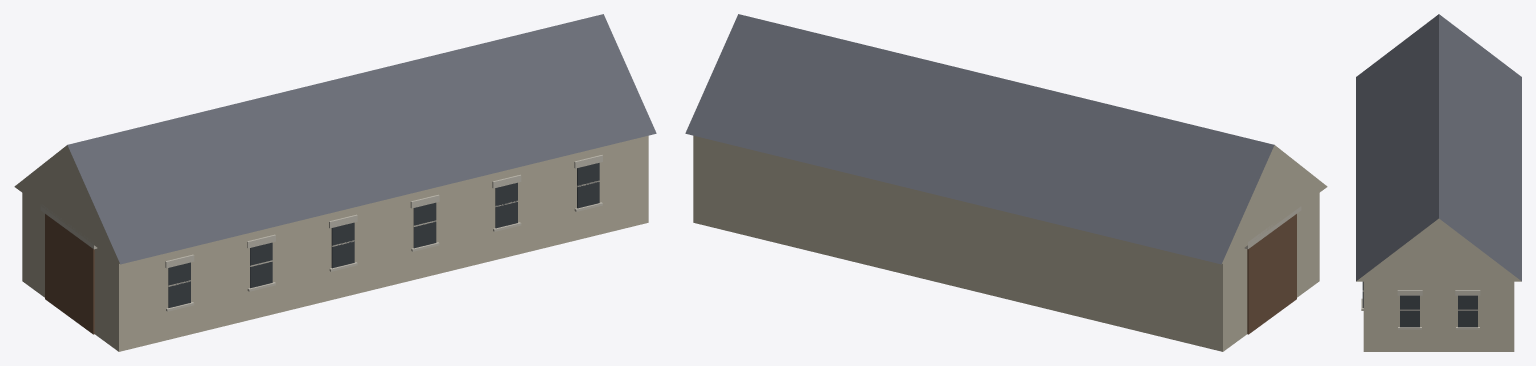
Rendered from house_2023_indiana_coach_house__draft_1904.glb.
3 views of the same model, side by side, from view 1: azimuth 30°, elevation 25°; view 2: azimuth 150°, elevation 25°; view 3: azimuth 270°, elevation 25° (orthographic). The views are drawn at different scales.
Visible parts, largest first — view 1: house_2023_indiana_coach_house__draft_1904; view 2: house_2023_indiana_coach_house__draft_1904; view 3: house_2023_indiana_coach_house__draft_1904.
Boxes of the visible parts, bbox=[...] form: house_2023_indiana_coach_house__draft_1904: bbox=[14, 14, 656, 351]; house_2023_indiana_coach_house__draft_1904: bbox=[685, 14, 1327, 351]; house_2023_indiana_coach_house__draft_1904: bbox=[1356, 14, 1521, 351].
Bounding box in the file's own units: 19.24 × 5.92 × 6.6.
